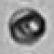correct: (3, 2, 50, 47)
